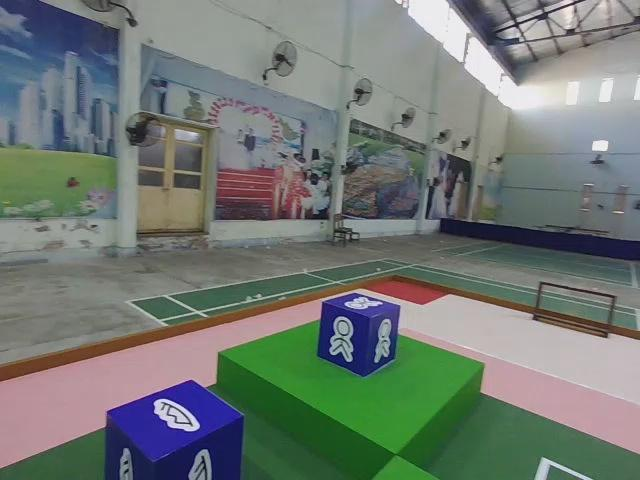R2 Real Blue: (106, 380, 244, 480), (317, 292, 402, 379)
